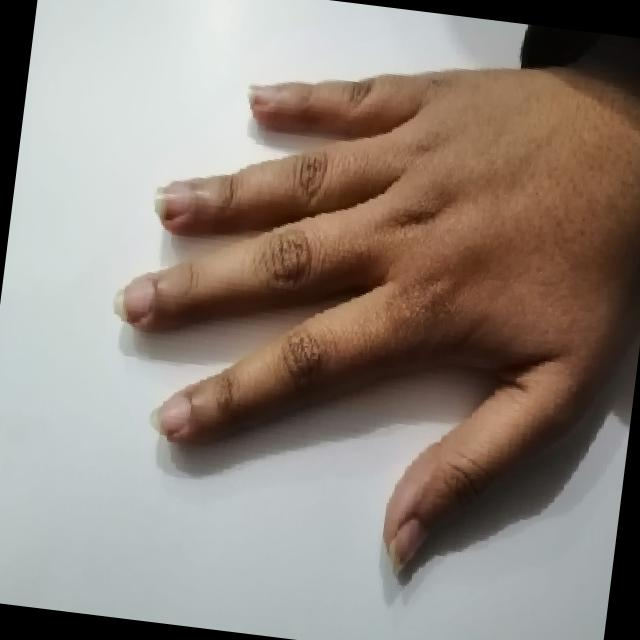Nail: (388, 517, 427, 570), (113, 278, 153, 323), (149, 397, 190, 434), (155, 182, 193, 219), (247, 84, 277, 103)
